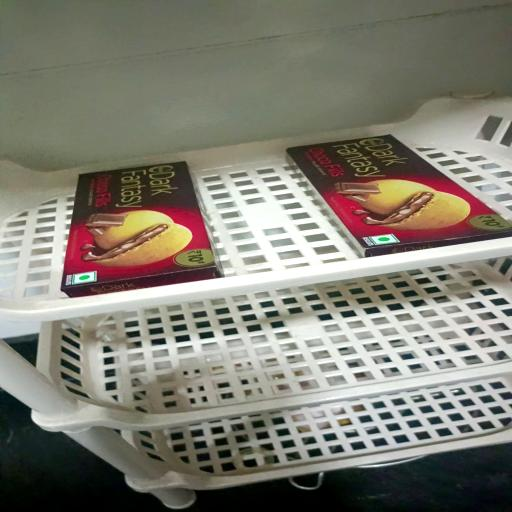Choco Fills: (290, 133, 512, 254), (62, 164, 218, 298)
